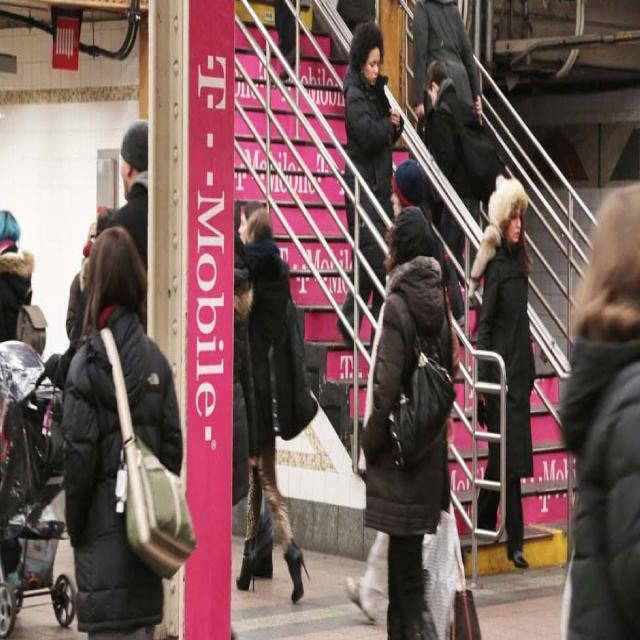body: (60, 219, 199, 639), (356, 191, 458, 639), (558, 174, 639, 640), (230, 206, 318, 607), (463, 166, 539, 574), (64, 224, 129, 570), (340, 21, 404, 344), (423, 58, 484, 336), (1, 298, 53, 574), (410, 0, 484, 142), (264, 0, 386, 77), (231, 201, 258, 519), (101, 118, 149, 276), (0, 208, 38, 350), (391, 160, 429, 218), (72, 294, 105, 358), (236, 198, 266, 247)
